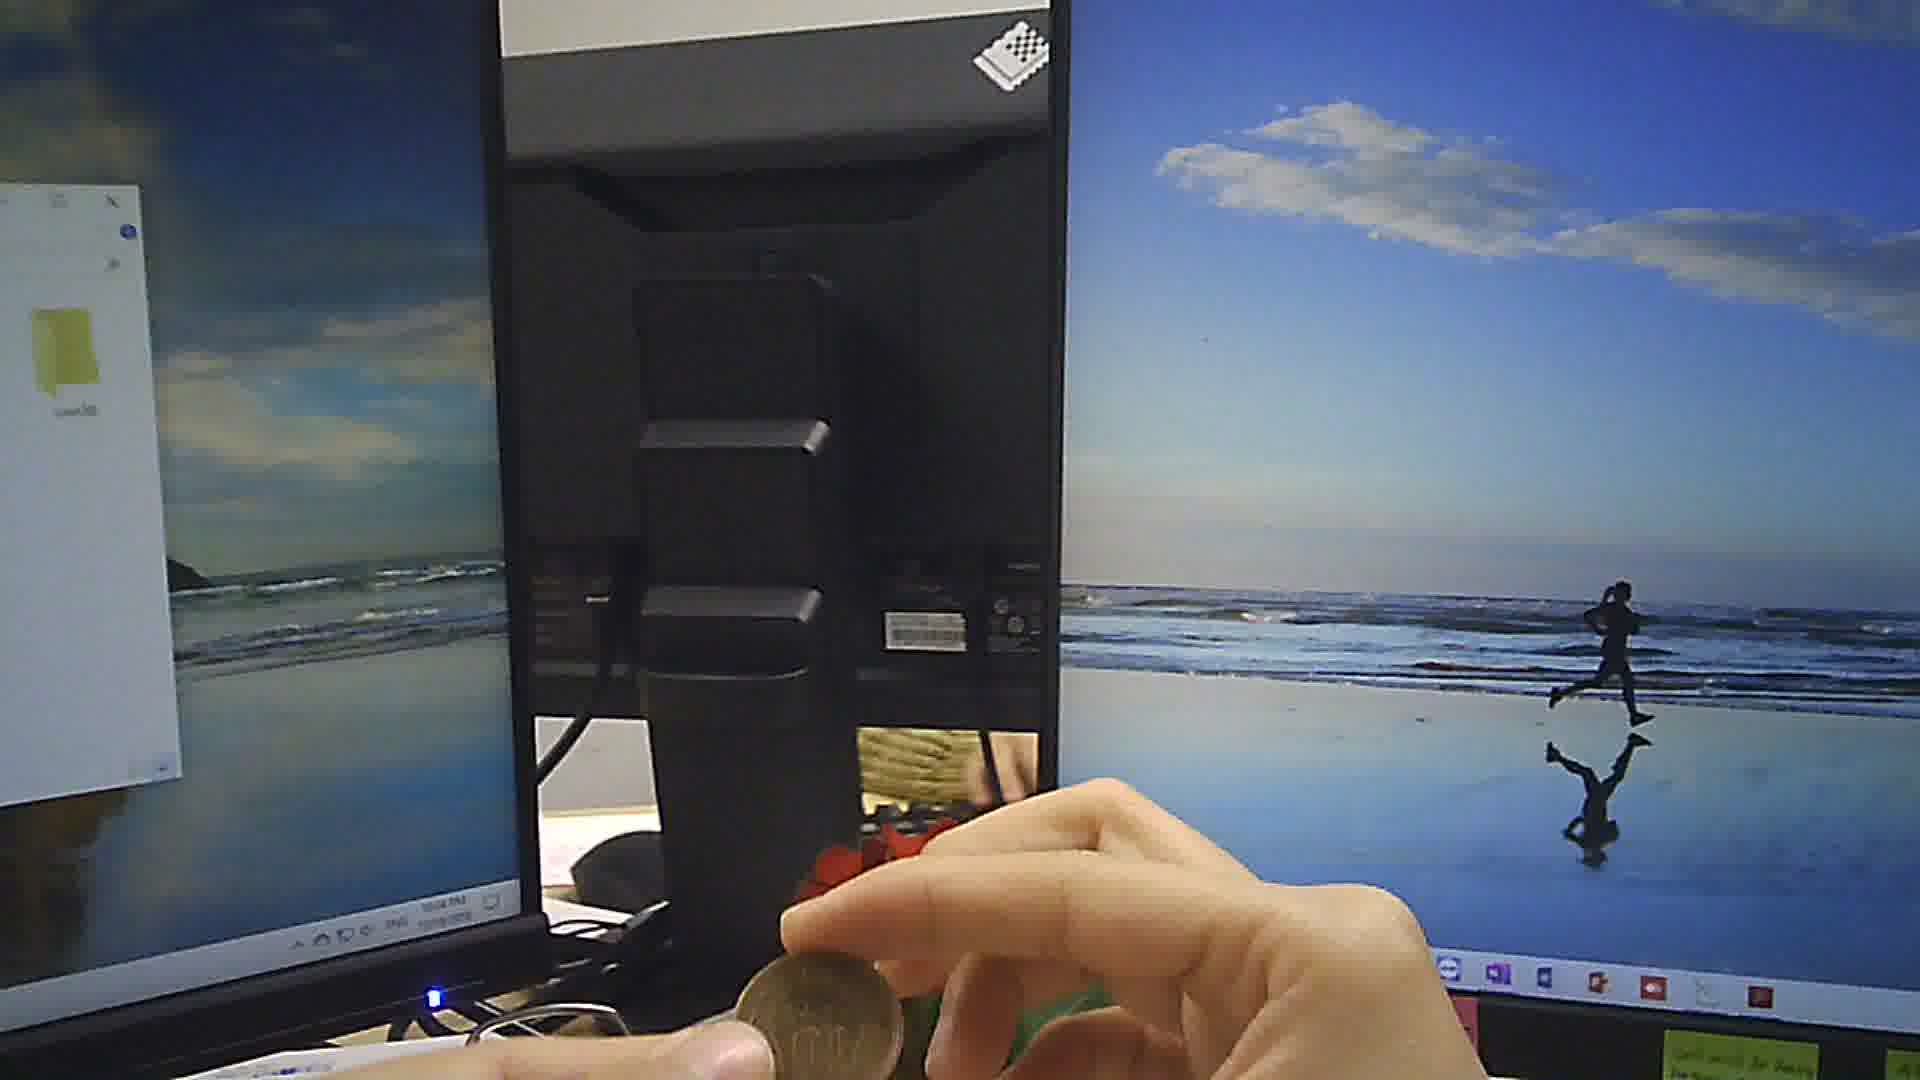10 Yen: (727, 949, 906, 1079)
